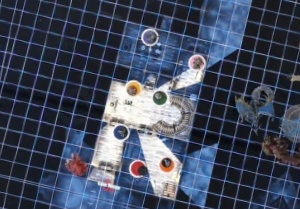blue: (108, 120, 131, 143)
green: (147, 87, 172, 109)
orange: (156, 153, 177, 175)
pink: (184, 48, 208, 73)
red: (125, 155, 148, 179)
violet: (137, 25, 161, 49)
yellow: (121, 75, 143, 98)
